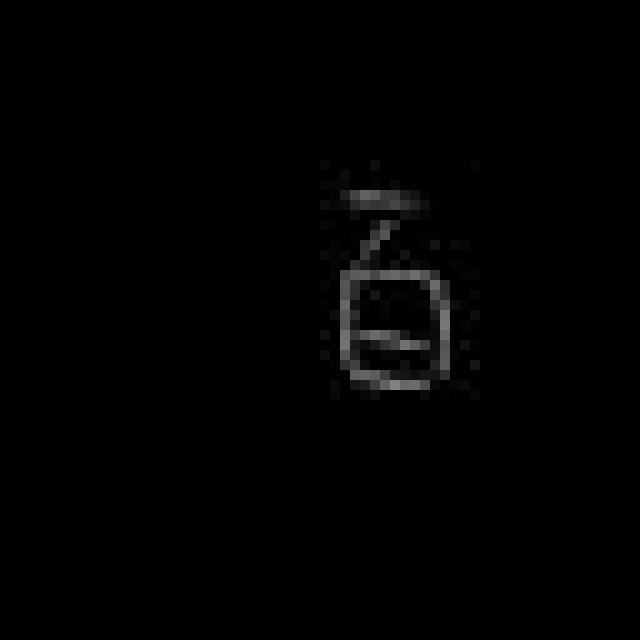100 -a hundred-: (322, 176, 464, 410)
